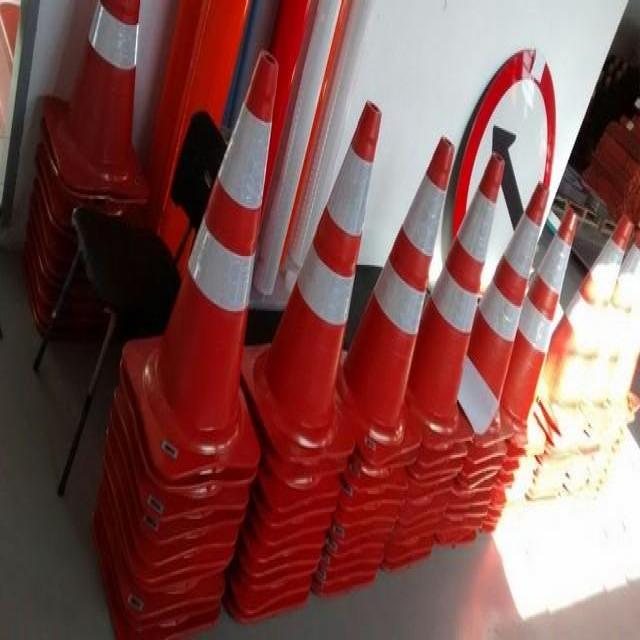cone: (165, 51, 275, 447), (274, 60, 380, 434), (74, 0, 138, 177), (528, 194, 573, 434)
